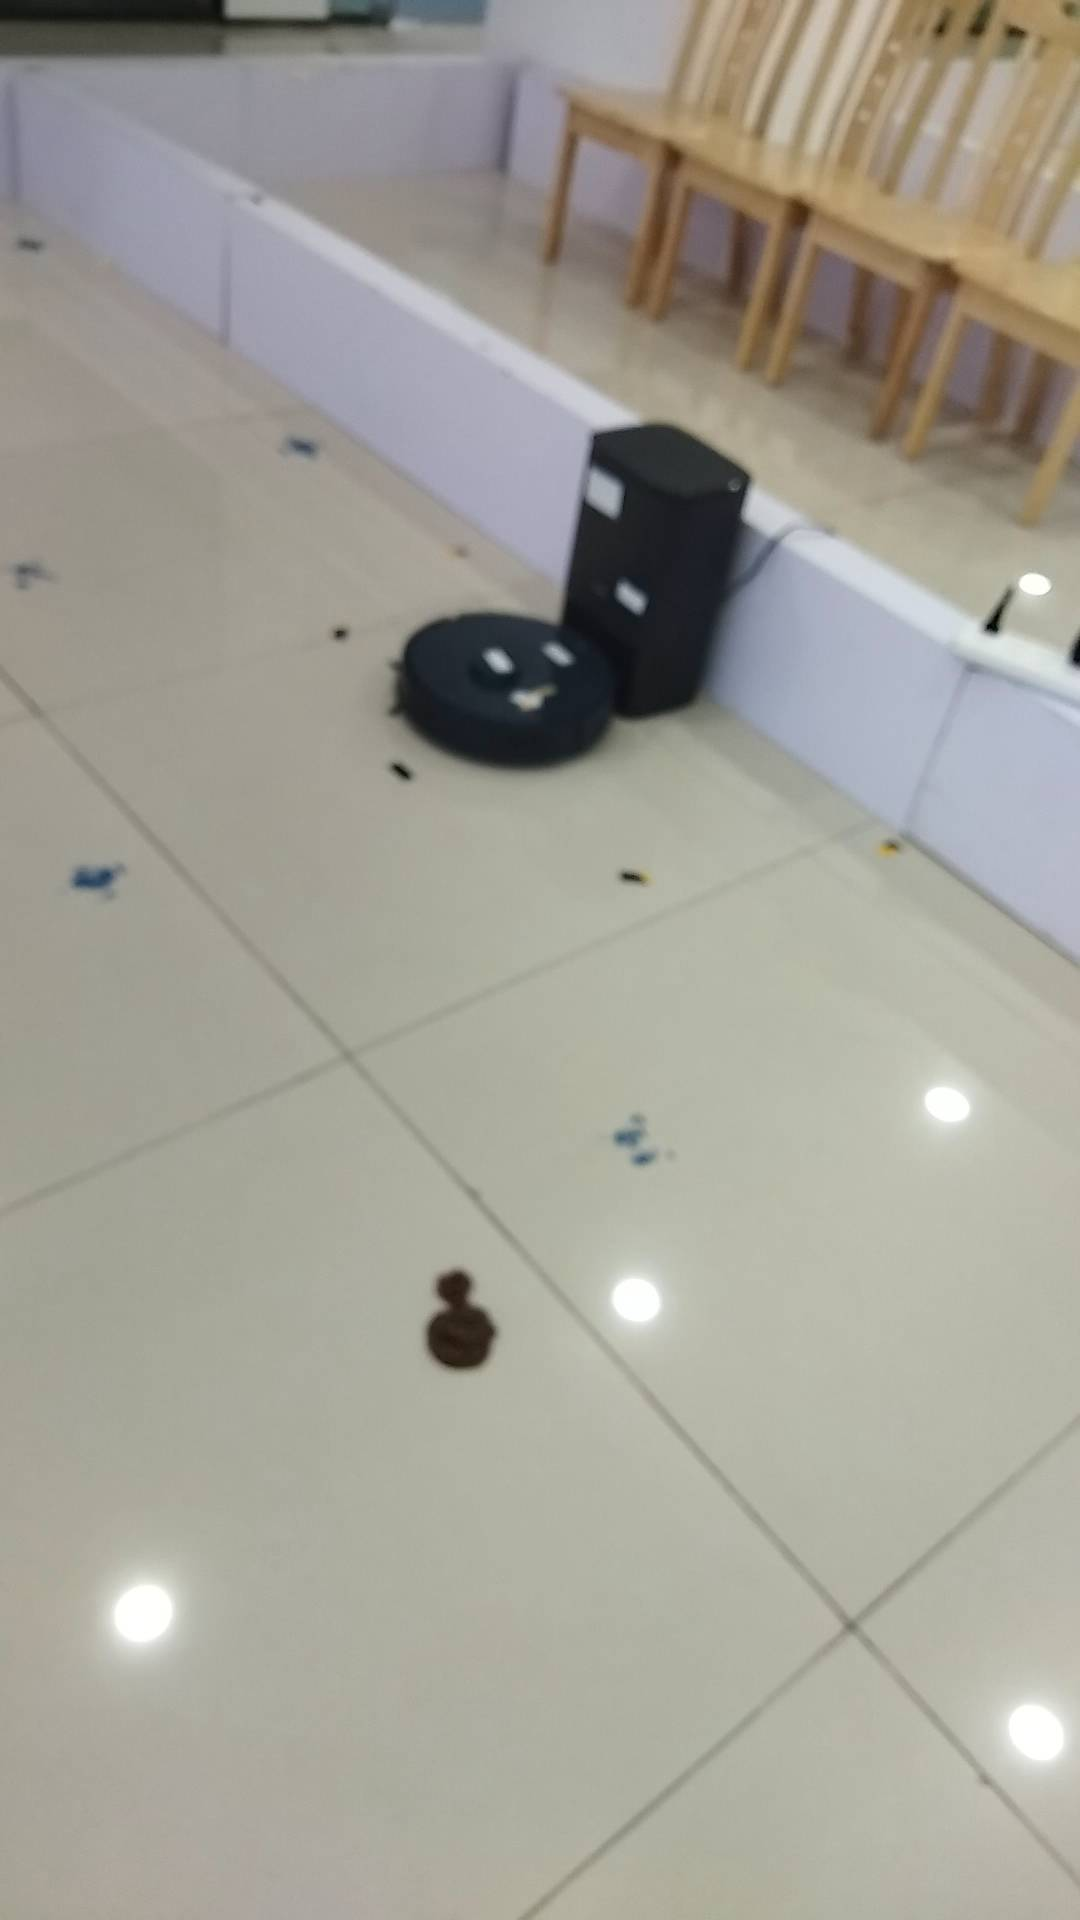dust collecting barrel: (559, 425, 753, 719)
